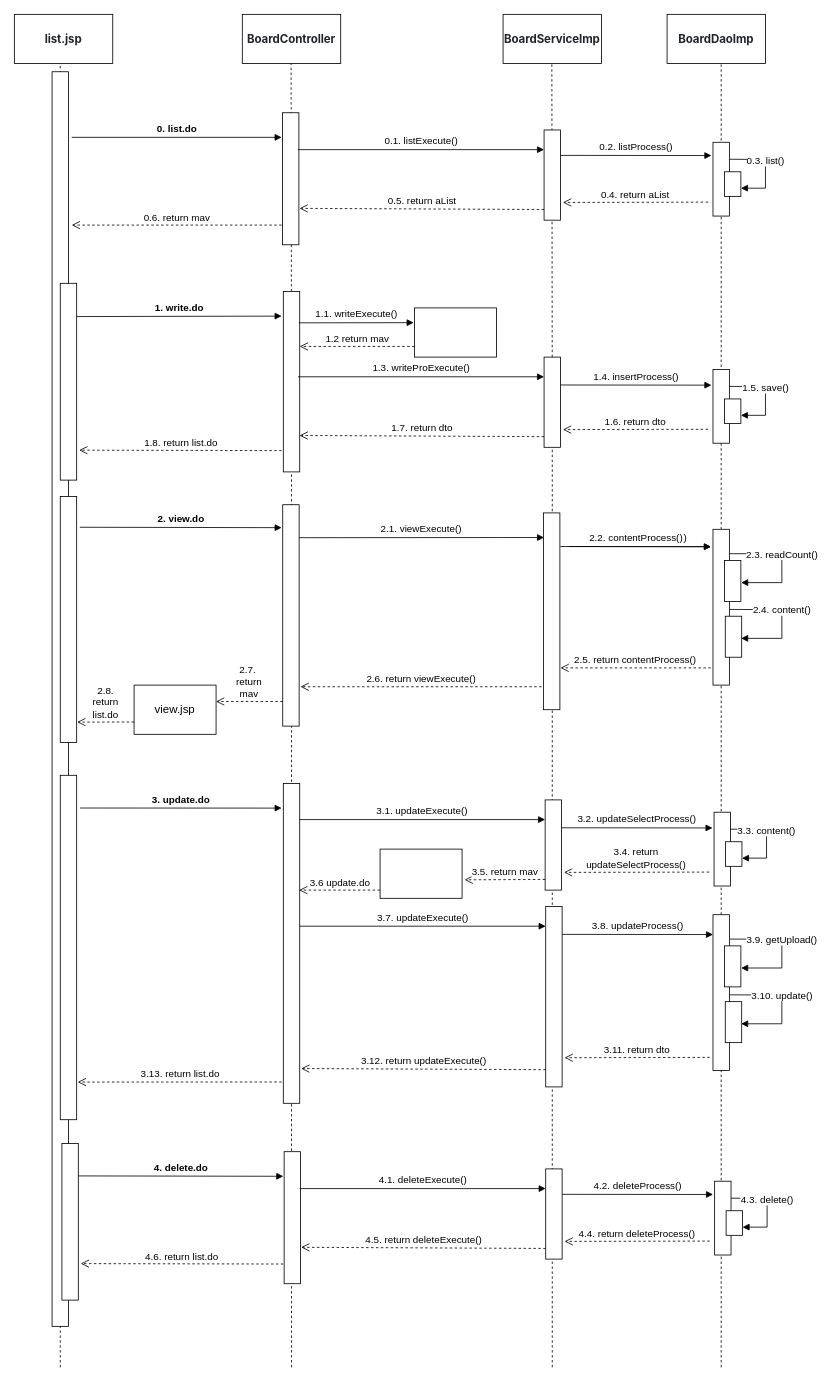
The diagram is 831 pixels wide and 1383 high, and some of its shapes have lost their labels. The centre of each missing label's shape, as x and y in pixels:
"update.jsp" goes at point 420,873.
"write.jsp" goes at point 455,332.
